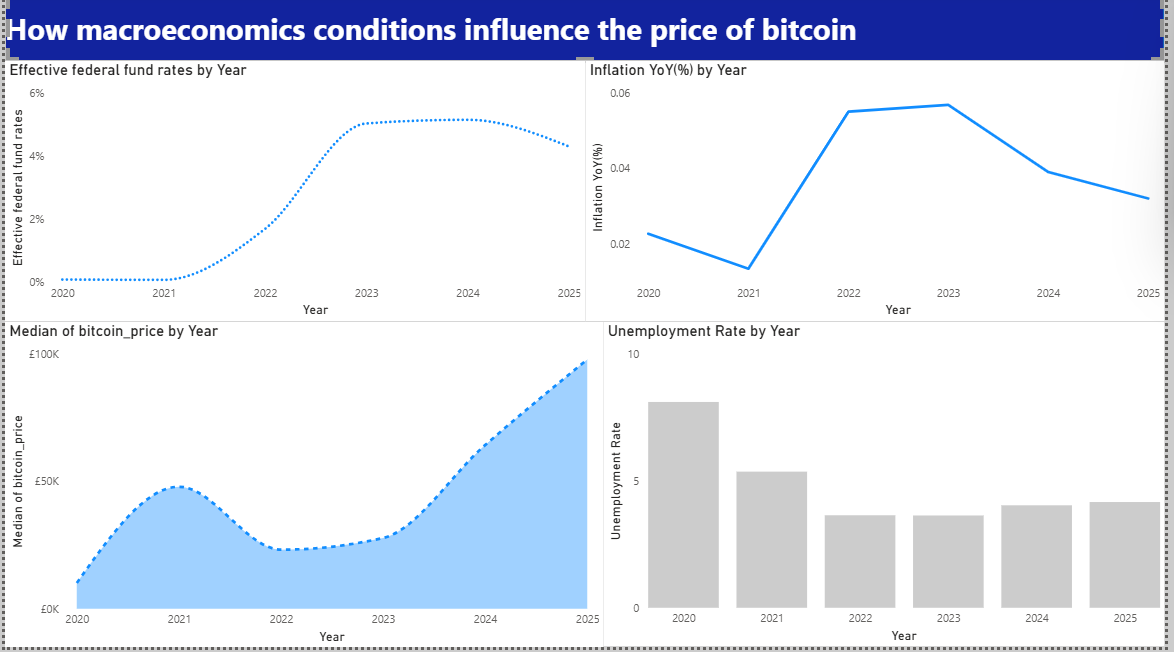

The dashboard page shown, as its layout file describes it:
{"tool":"powerbi","page":{"name":"Page 1","canvas":[1280,720],"ordinal":0},"visuals":[{"type":"shape","box":[0,0,1279.7,73.6],"z":4},{"type":"lineChart","fields":{"Category":["Effective_rates - DFF (1).observation_date.Variation.Date Hierarchy.Year"],"Y":["Avg(Effective_rates - DFF (1).Eff_rate)"]},"box":[0,73.6,640.6,287.1],"z":5},{"type":"columnChart","fields":{"Category":["Unemployment rate - UNRATE.observation_date.Variation.Date Hierarchy.Year"],"Y":["Avg(Unemployment rate - UNRATE.UNRATE)"]},"box":[660.5,360.7,619.5,358.3],"z":6},{"type":"stackedAreaChart","fields":{"Category":["BTC PRICE 2020 - 2025 - Bitcoin Historical Data.date_fixed.Variation.Date Hierarchy.Year"],"Y":["Median(BTC PRICE 2020 - 2025 - Bitcoin Historical Data.bitcoin_price)"]},"box":[0,360.7,660.8,359.2],"z":7},{"type":"lineChart","fields":{"Category":["CORE CPI inflation.observation_date.Variation.Date Hierarchy.Year"],"Y":["Avg(CORE CPI inflation.Inflation YoY(%))"]},"box":[640.6,73.6,639.1,287.1],"z":8}]}

Visuals, with their boxes in screenshot pixels (x1, y1, x2, y2), scaled from the page's 1280x720 canvas onto the 1174x652 screenshot:
shape: crop(0, 0, 1173, 67)
lineChart - Effective_rates - DFF (1).observation_date.Variation.Date Hierarchy.Year x Avg(Effective_rates - DFF (1).Eff_rate): crop(0, 67, 588, 327)
columnChart - Unemployment rate - UNRATE.observation_date.Variation.Date Hierarchy.Year x Avg(Unemployment rate - UNRATE.UNRATE): crop(606, 327, 1173, 651)
stackedAreaChart - BTC PRICE 2020 - 2025 - Bitcoin Historical Data.date_fixed.Variation.Date Hierarchy.Year x Median(BTC PRICE 2020 - 2025 - Bitcoin Historical Data.bitcoin_price): crop(0, 327, 606, 651)
lineChart - CORE CPI inflation.observation_date.Variation.Date Hierarchy.Year x Avg(CORE CPI inflation.Inflation YoY(%)): crop(588, 67, 1173, 327)
